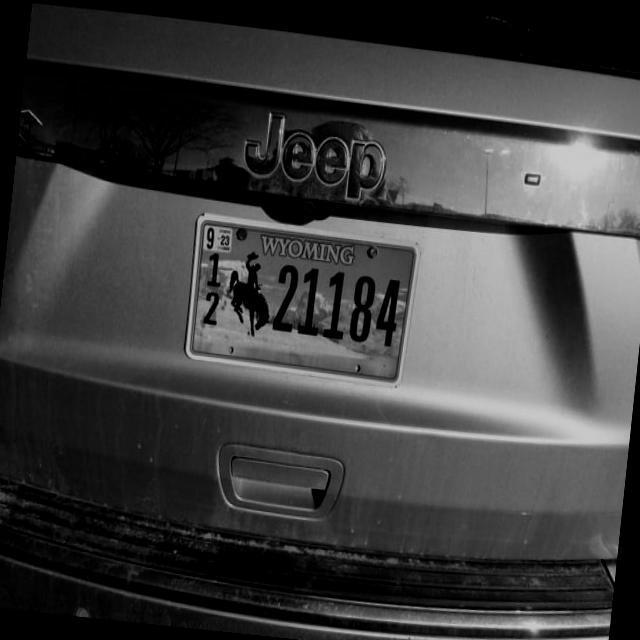LicensePlate: (183, 213, 422, 389)
